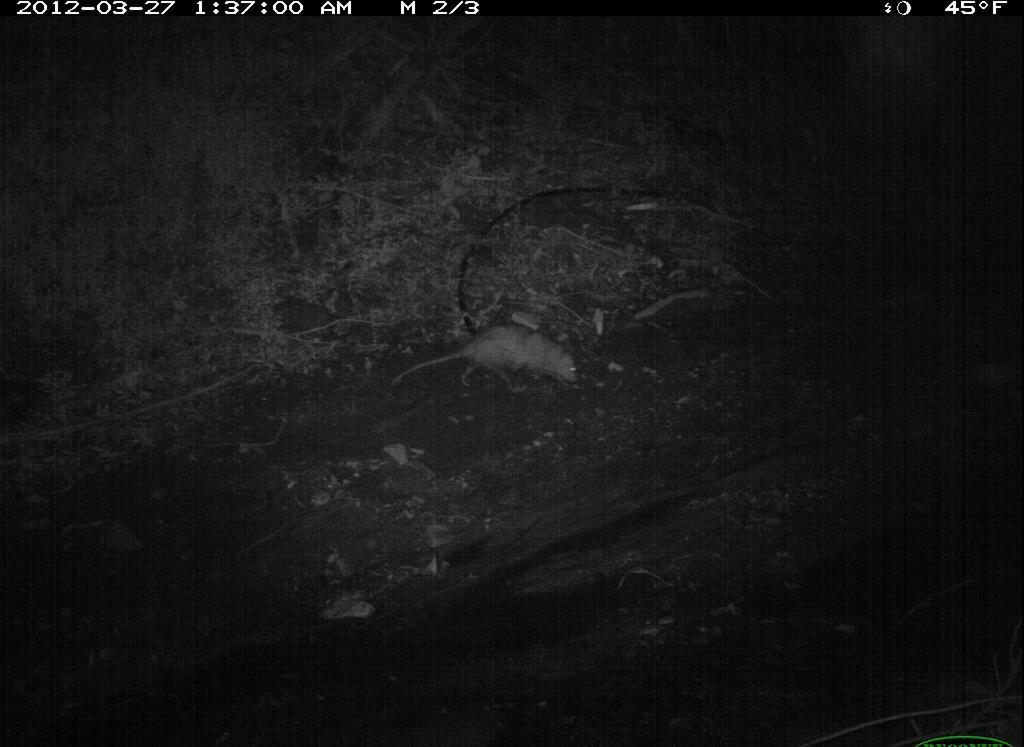opossum: (385, 313, 594, 414)
